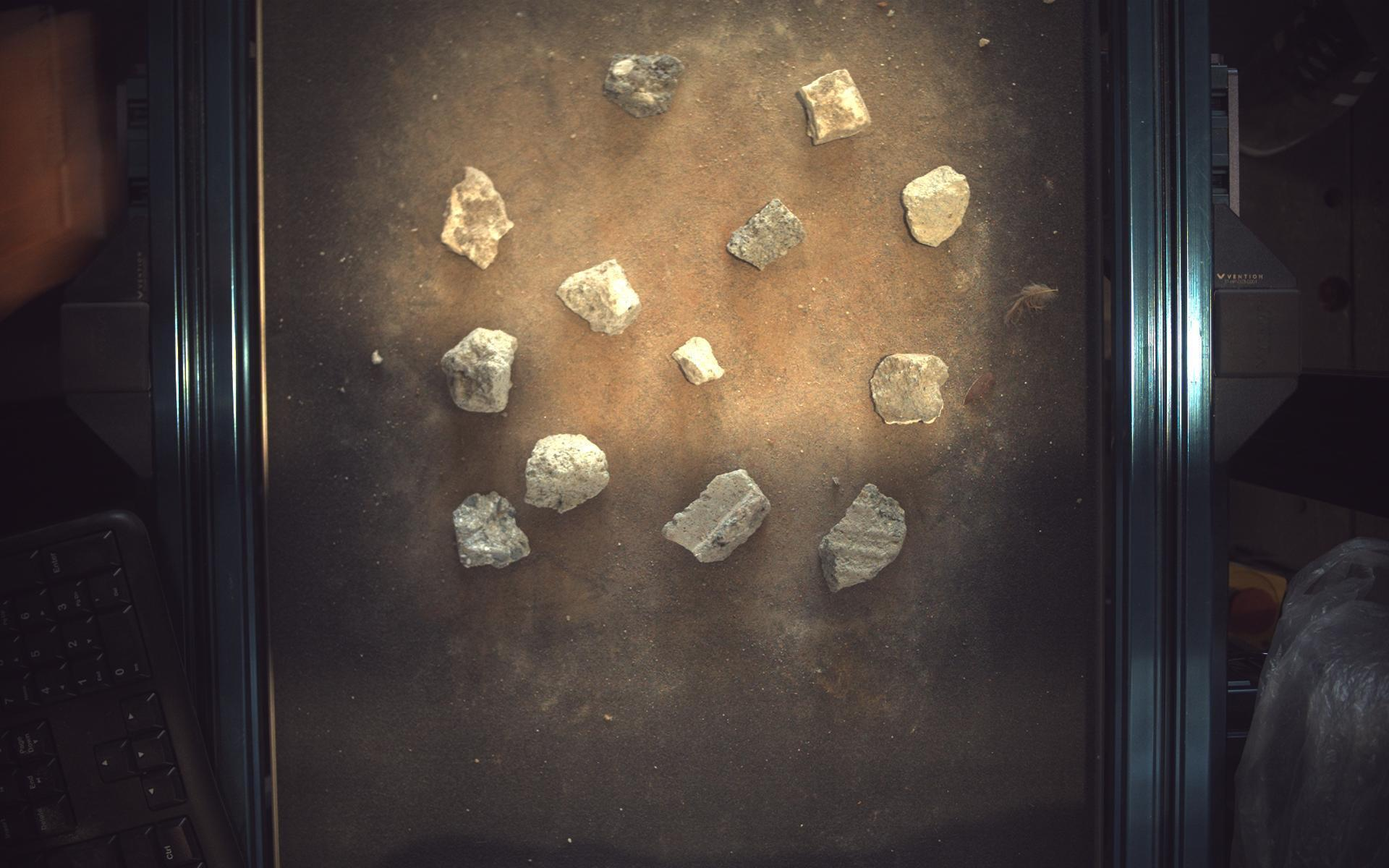concrete: (664, 470, 772, 563), (820, 484, 908, 593), (441, 166, 514, 268), (525, 434, 610, 514), (441, 327, 518, 413), (557, 258, 642, 335), (453, 492, 530, 569), (728, 197, 807, 270), (904, 164, 972, 247), (873, 353, 951, 425), (800, 68, 873, 144), (604, 53, 686, 116), (673, 336, 726, 385)
